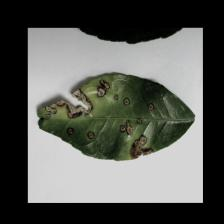canker: (32, 66, 166, 159)
